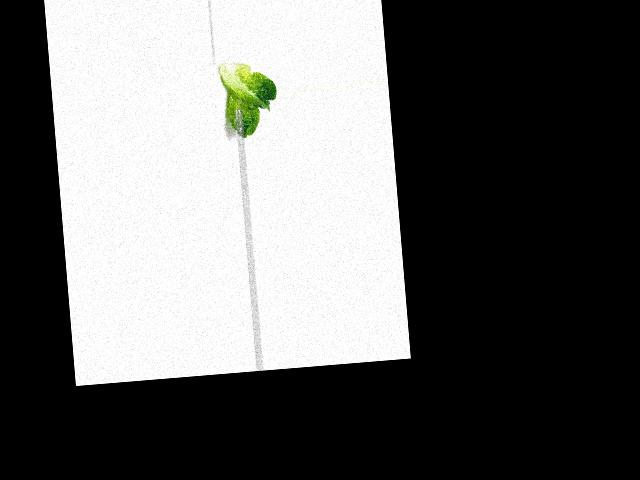lettuce: (220, 56, 280, 141)
